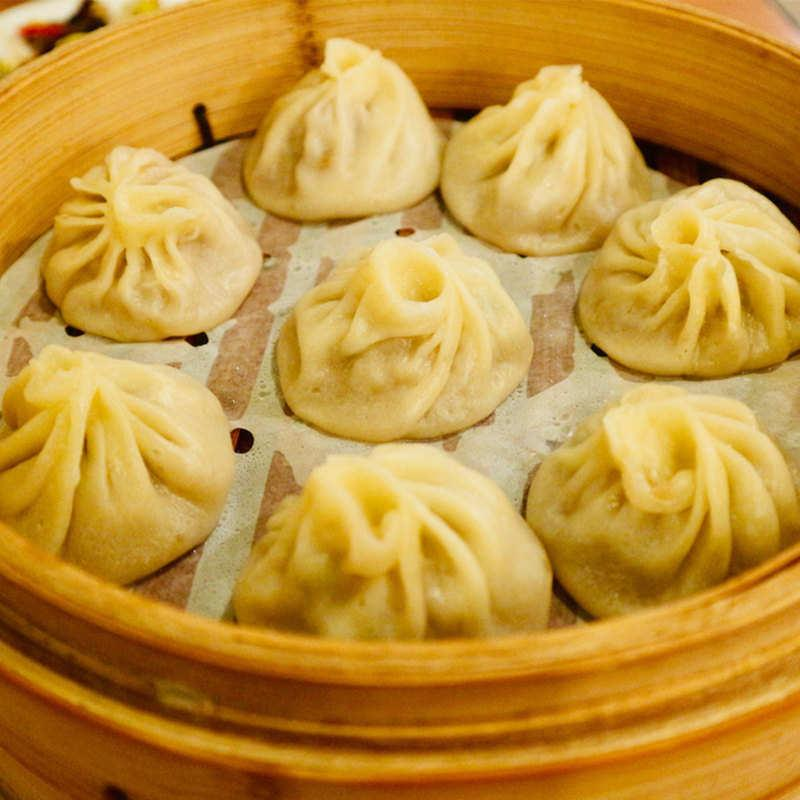momos: (231, 444, 552, 638), (527, 397, 800, 617), (0, 345, 234, 584), (277, 233, 533, 441), (577, 178, 800, 377), (41, 147, 262, 341), (441, 66, 652, 255), (244, 38, 442, 221)
